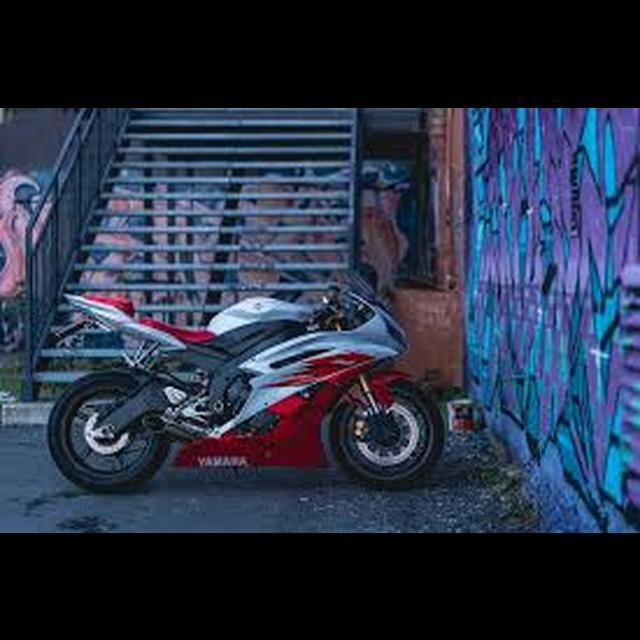motorcycle: (45, 271, 450, 497)
